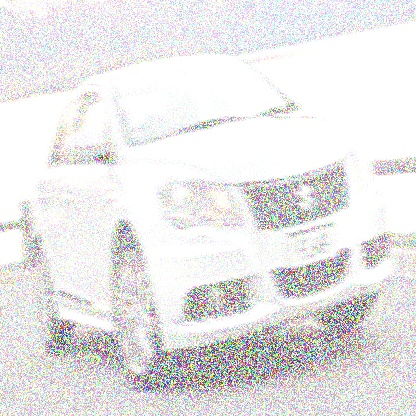Vehicle: (30, 54, 394, 387)
